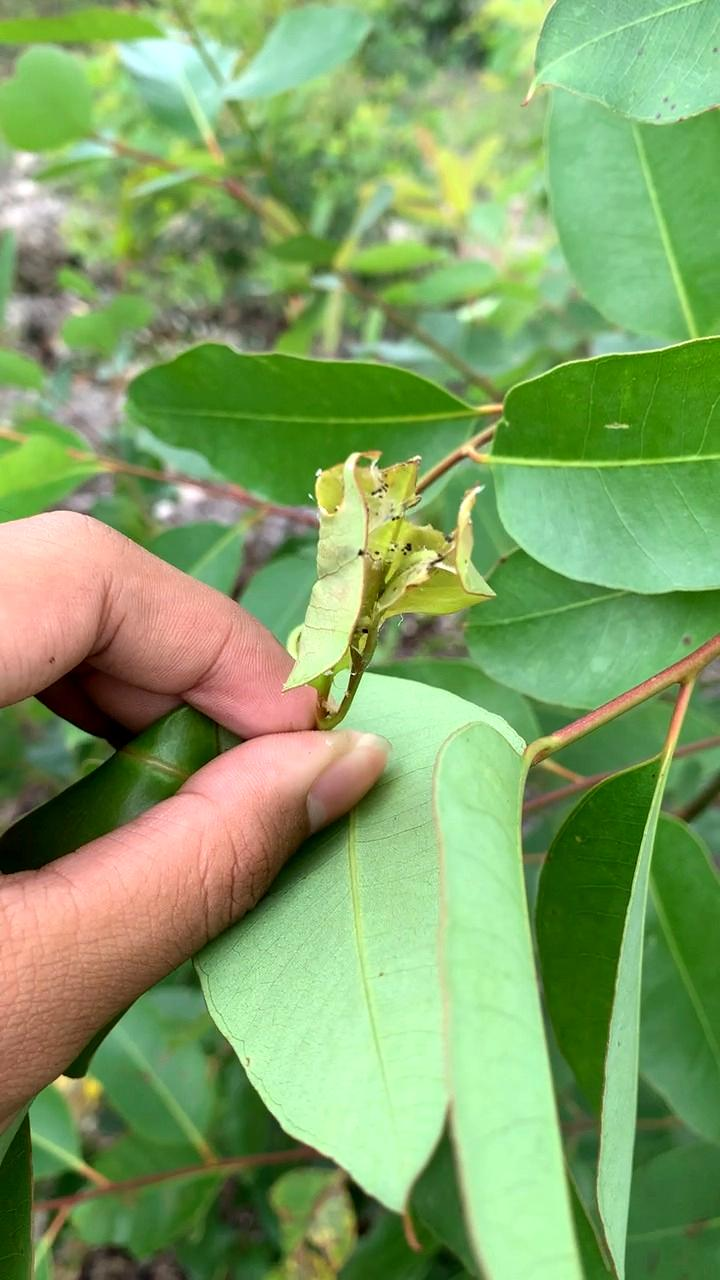Leaf Roller - Leaf: (265, 450, 510, 707)
